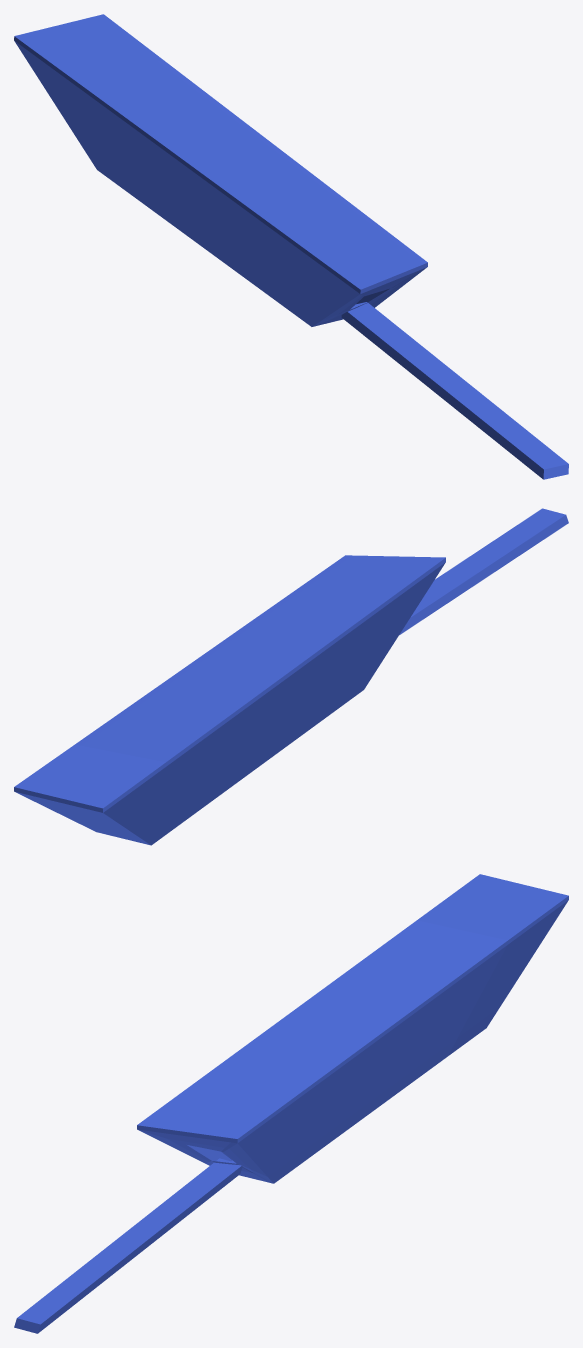
File: dravya.glb
3 views of the same model, one above another, from view 1: azimuth 30°, elevation 25°; view 2: azimuth 150°, elevation 25°; view 3: azimuth 330°, elevation 25° (orthographic).
Parts seen in each view (by area): view 1: Cube; view 2: Cube; view 3: Cube.
Boxes of the visible parts, x1,y1,x2,y2 form: Cube: (14, 14, 568, 479); Cube: (14, 508, 568, 845); Cube: (14, 874, 568, 1333).
Size of the model in its own units: 4.16 by 3.97 by 40.2.
